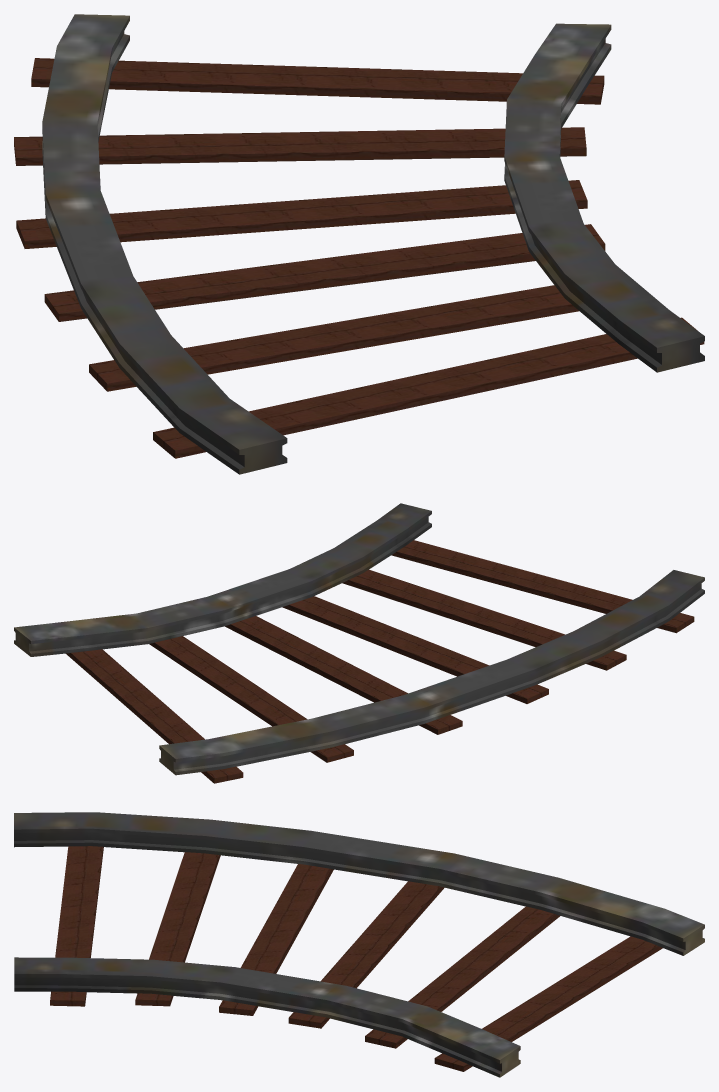
Rendered from Trilho_Curva_Maior_Direita.fbx.
3 renders of one model, top to bottom at view 1: azimuth 30°, elevation 25°; view 2: azimuth 150°, elevation 25°; view 3: azimuth 270°, elevation 25°, orthographic. The views are drawn at different scales.
Parts seen in each view (by area): view 1: Trilho.Curva.Maior.Direita; view 2: Trilho.Curva.Maior.Direita; view 3: Trilho.Curva.Maior.Direita.
Part boxes in pixels (box(x1,y1,x2,y2)): Trilho.Curva.Maior.Direita: box(14, 14, 704, 474); Trilho.Curva.Maior.Direita: box(14, 503, 704, 783); Trilho.Curva.Maior.Direita: box(14, 812, 704, 1077).
Bounding box in the file's own units: 306 × 12.94 × 350.
